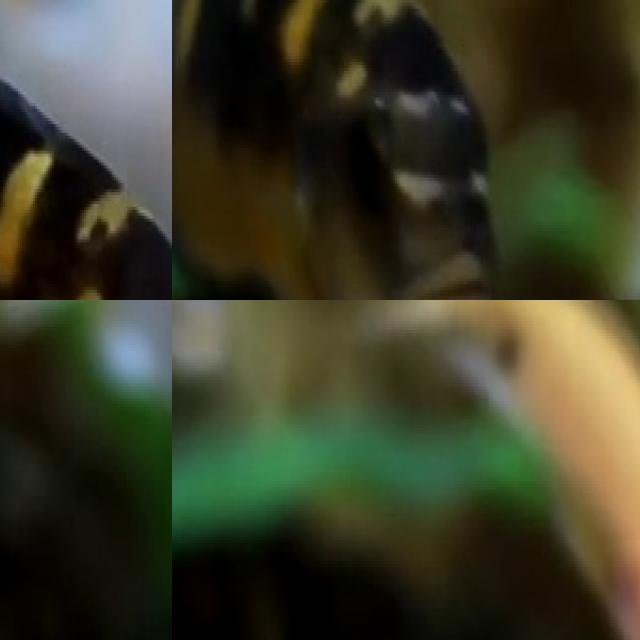fish: (172, 0, 526, 300), (0, 0, 172, 300), (0, 300, 172, 499)
